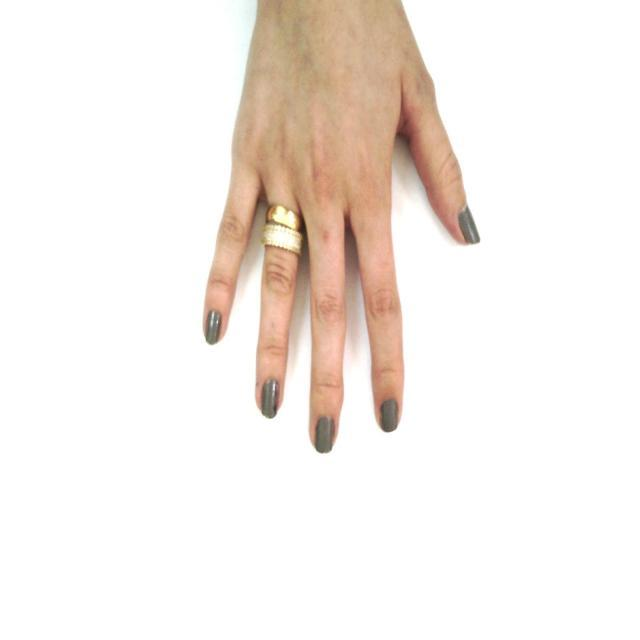Fingernail: (460, 207, 480, 244), (262, 379, 279, 418), (316, 417, 333, 453), (206, 309, 222, 344), (381, 400, 398, 432)
